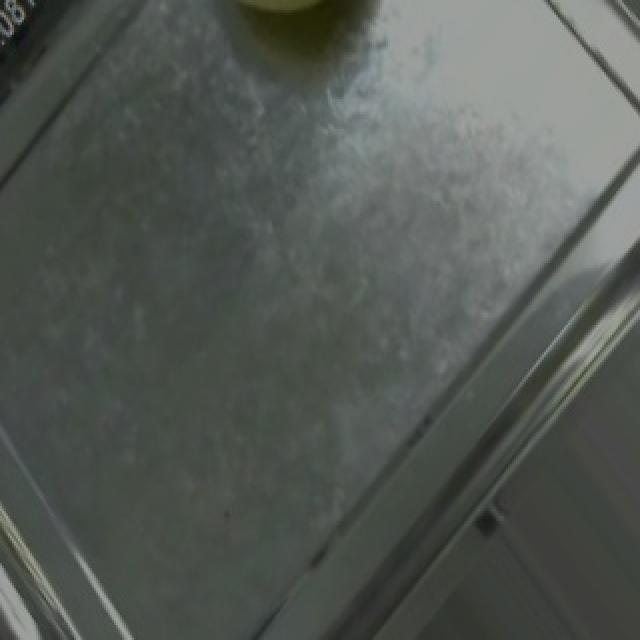Fruit: (164, 0, 404, 52)
